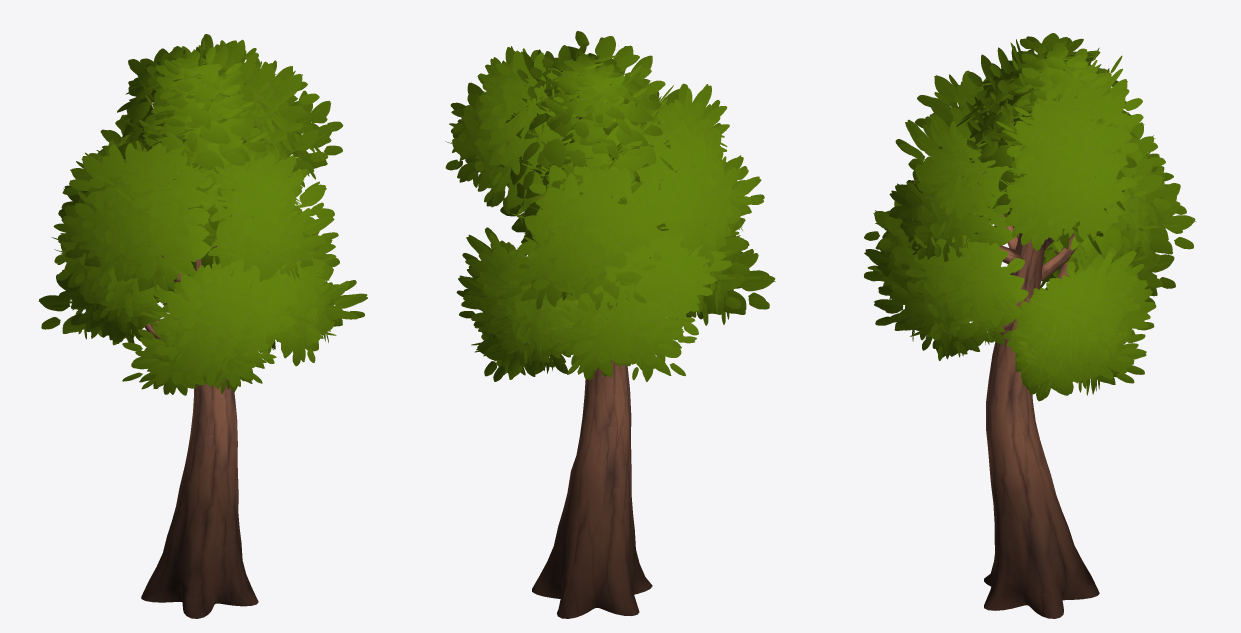
The model's file is CommonTree_1.gltf.
3 renders of one model, left to right at view 1: azimuth 30°, elevation 25°; view 2: azimuth 150°, elevation 25°; view 3: azimuth 270°, elevation 25°, orthographic. The views are drawn at different scales.
Parts seen in each view (by area): view 1: CommonTree_1; view 2: CommonTree_1; view 3: CommonTree_1.
Boxes of the visible parts, x1,y1,x2,y2 form: CommonTree_1: [38, 34, 367, 618]; CommonTree_1: [445, 31, 775, 618]; CommonTree_1: [864, 33, 1196, 618].
Size of the model in its own units: 4.31 by 7.26 by 4.58.
2 materials, 2 textured.
